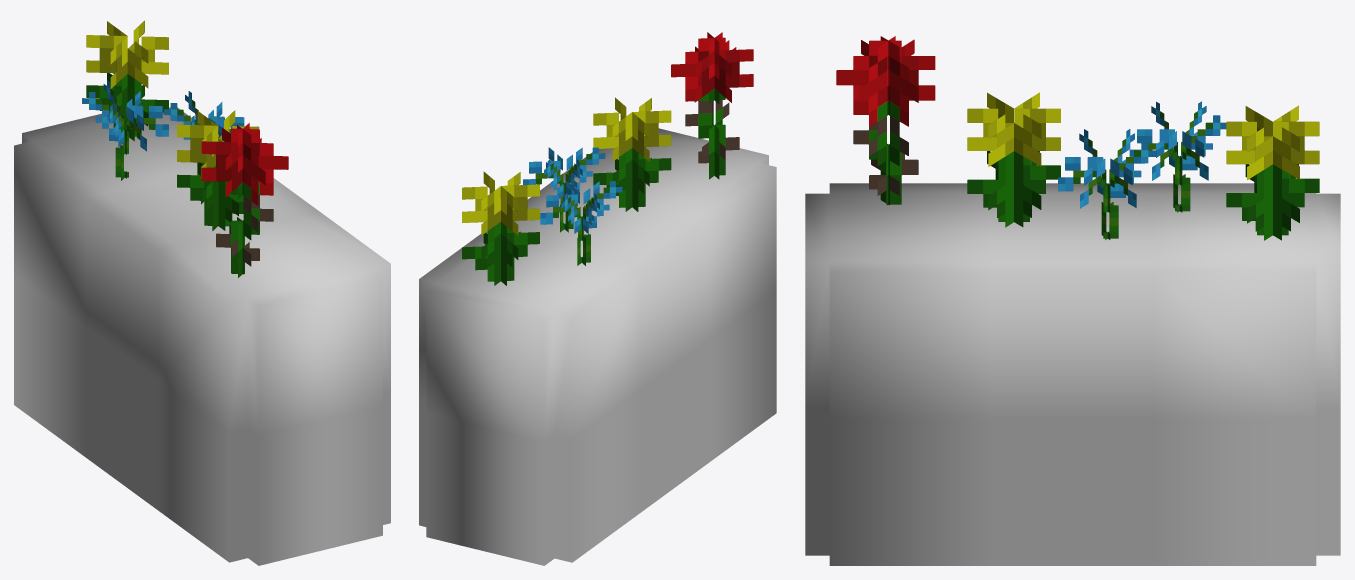
File: flower_bed.fbx
The picture shows the model from 3 angles, left to right: view 1: azimuth 30°, elevation 25°; view 2: azimuth 150°, elevation 25°; view 3: azimuth 270°, elevation 25°; orthographic projection. The views are drawn at different scales.
Visible parts, largest first — view 1: flower_bed; view 2: flower_bed; view 3: flower_bed.
Part boxes in pixels (<box>): flower_bed: <box>14,20,390,565</box>; flower_bed: <box>419,32,776,565</box>; flower_bed: <box>805,36,1340,565</box>.
Size of the model in its own units: 137 by 312 by 330.
